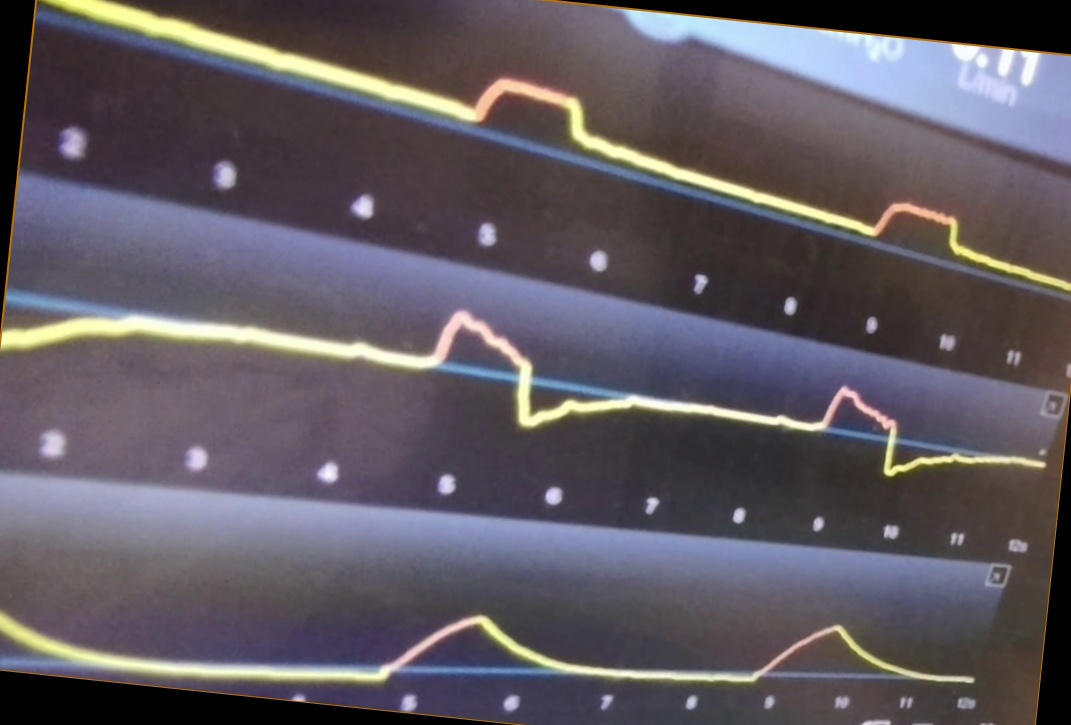Accumulation Flow: (4, 304, 1045, 485)
Volume: (4, 552, 976, 690)
